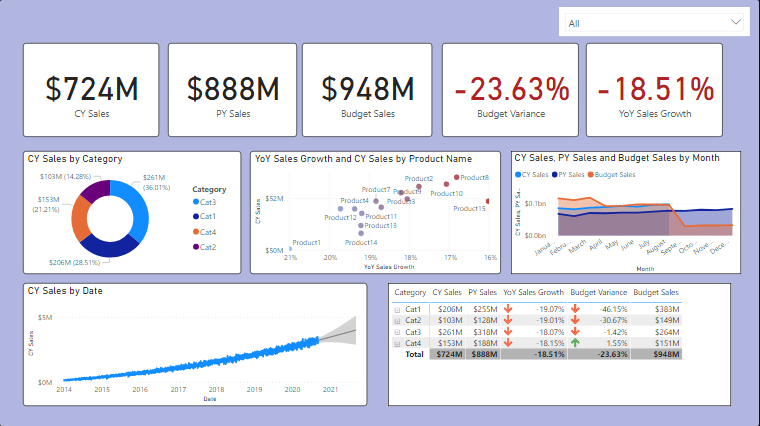

This screenshot's page, from the dashboard's own definition file:
{"tool":"powerbi","page":{"name":"Page 1","canvas":[1280,720],"ordinal":0},"visuals":[{"type":"card","fields":{"Values":["Key Measures.CY Sales"]},"box":[40.4,74,228.8,158.1],"z":0},{"type":"card","fields":{"Values":["Key Measures.PY Sales"]},"box":[284.3,74,217,158.1],"z":1},{"type":"card","fields":{"Values":["Key Measures.Budget Sales"]},"box":[509.6,74,218.7,158.1],"z":2},{"type":"card","fields":{"Values":["Key Measures.Budget Variance"]},"box":[745.1,74,230.4,158.1],"z":3},{"type":"slicer","fields":{"Values":["DateDim.Date.Variation.Date Hierarchy.Year"]},"box":[941.9,13.5,321.3,48.8],"z":5},{"type":"donutChart","fields":{"Category":["Product.Category"],"Y":["Key Measures.CY Sales"]},"box":[40.4,255.7,366.7,206.9],"z":6},{"type":"card","fields":{"Values":["Key Measures.YoY Sales Growth"]},"box":[987.3,74,230.4,158.1],"z":7},{"type":"scatterChart","fields":{"Y":["Key Measures.CY Sales"],"X":["Key Measures.YoY Sales Growth"],"Category":["Product.Product Name"]},"box":[422.2,255.7,422.2,206.9],"z":8},{"type":"areaChart","fields":{"Y":["Key Measures.CY Sales","Key Measures.PY Sales","Key Measures.Budget Sales"],"Category":["DateDim.Month"]},"box":[861.2,255.7,386.9,206.9],"z":9},{"type":"lineChart","fields":{"Y":["Key Measures.CY Sales"],"Category":["DateDim.Date"]},"box":[40.4,477.7,578.6,206.9],"z":10},{"type":"pivotTable","fields":{"Rows":["Product.Category","Product.Product Name"],"Values":["Key Measures.CY Sales","Key Measures.PY Sales","Key Measures.YoY Sales Growth","Key Measures.Budget Variance","Key Measures.Budget Sales"]},"box":[654.3,477.7,576.9,206.9],"z":11}]}

Visuals, with their boxes in screenshot pixels (x1, y1, x2, y2), scaled from the page's 1280x720 canvas onto the 760x426 screenshot:
card - Key Measures.CY Sales: left=24, top=44, right=160, bottom=137
card - Key Measures.PY Sales: left=169, top=44, right=298, bottom=137
card - Key Measures.Budget Sales: left=303, top=44, right=432, bottom=137
card - Key Measures.Budget Variance: left=442, top=44, right=579, bottom=137
slicer - DateDim.Date.Variation.Date Hierarchy.Year: left=559, top=8, right=750, bottom=37
donutChart - Product.Category x Key Measures.CY Sales: left=24, top=151, right=242, bottom=274
card - Key Measures.YoY Sales Growth: left=586, top=44, right=723, bottom=137
scatterChart - Key Measures.CY Sales x Key Measures.YoY Sales Growth: left=251, top=151, right=501, bottom=274
areaChart - Key Measures.CY Sales x Key Measures.PY Sales: left=511, top=151, right=741, bottom=274
lineChart - Key Measures.CY Sales x DateDim.Date: left=24, top=283, right=368, bottom=405
pivotTable - Product.Category x Product.Product Name: left=388, top=283, right=731, bottom=405
